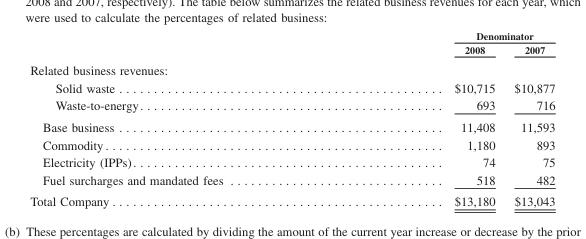table: (29, 29, 554, 208)
table column: (29, 29, 338, 208), (338, 29, 504, 208), (504, 29, 554, 208)
table column header: (29, 29, 554, 58)
table projected row header: (29, 58, 554, 78)
table row: (29, 58, 554, 78), (29, 115, 554, 135), (29, 170, 554, 190), (29, 96, 554, 115), (29, 78, 554, 96), (29, 135, 554, 153), (29, 190, 554, 208), (29, 153, 554, 170), (29, 42, 554, 58), (29, 29, 554, 42)
table spanning cell: (338, 29, 554, 42)
